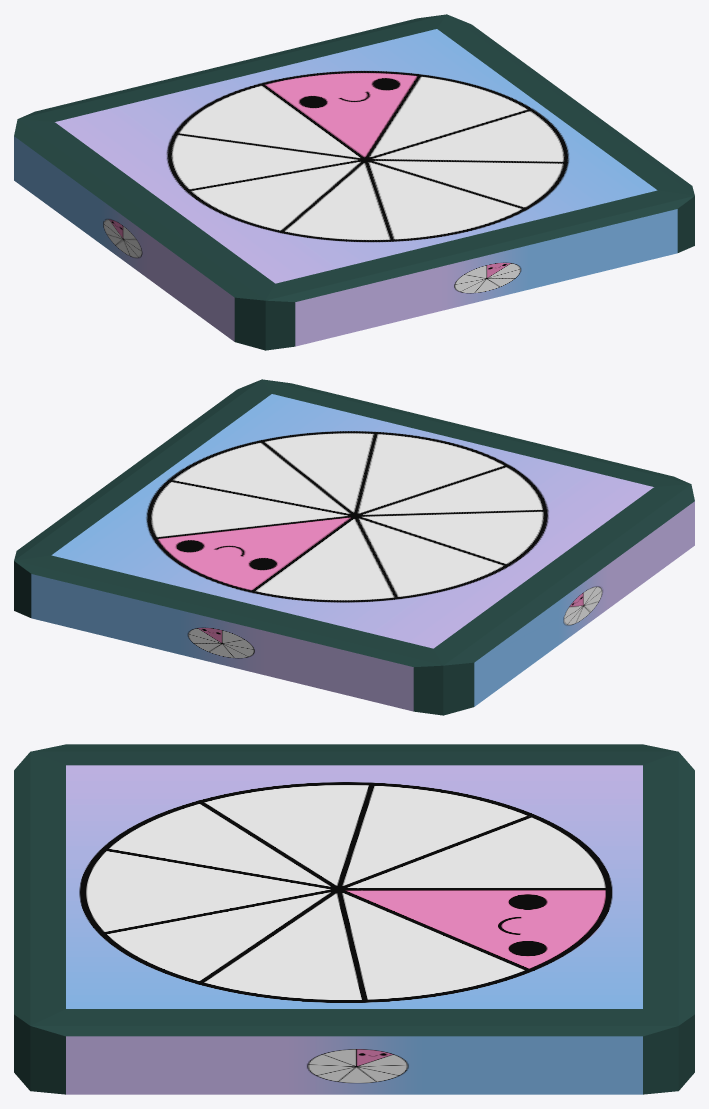
Rendered from Fracciones un noveno.fbx.
The picture shows the model from 3 angles, top to bottom: view 1: azimuth 30°, elevation 25°; view 2: azimuth 150°, elevation 25°; view 3: azimuth 270°, elevation 25°; orthographic projection. The views are drawn at different scales.
Parts seen in each view (by area): view 1: 1/9; view 2: 1/9; view 3: 1/9.
Part boxes in pixels (bbox=[...]): 1/9: bbox=[14, 14, 694, 350]; 1/9: bbox=[14, 379, 694, 715]; 1/9: bbox=[14, 744, 694, 1094].
Size of the model in its own units: 213 by 23.33 by 210.
Materials: 2 (1 with a texture image).
